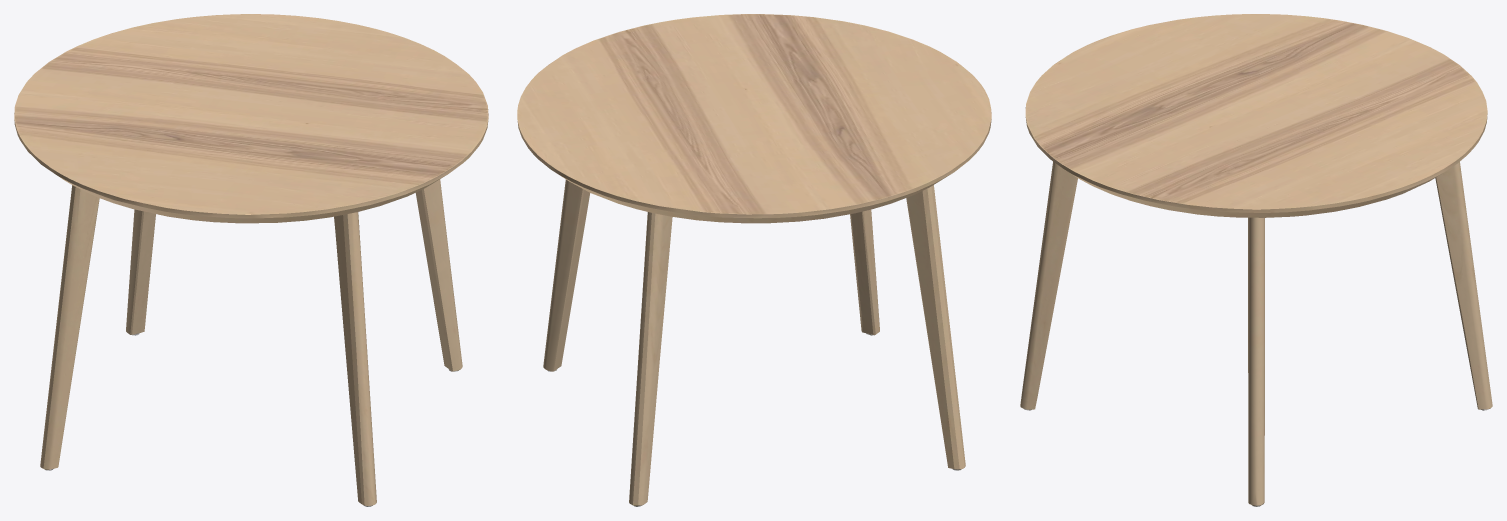
3 renders of one model, left to right at view 1: azimuth 30°, elevation 25°; view 2: azimuth 150°, elevation 25°; view 3: azimuth 270°, elevation 25°, orthographic. The views are drawn at different scales.
Visible parts, largest first — view 1: ProcessedMeshNode; view 2: ProcessedMeshNode; view 3: ProcessedMeshNode.
Boxes of the visible parts, <box> form: ProcessedMeshNode: <box>14,14,488,506</box>; ProcessedMeshNode: <box>517,14,991,506</box>; ProcessedMeshNode: <box>1020,14,1492,506</box>.
Size of the model in its own units: 1.07 by 0.7454 by 1.07.
Materials: 1 (1 with a texture image).
